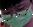with_mask: (1, 1, 33, 27)
